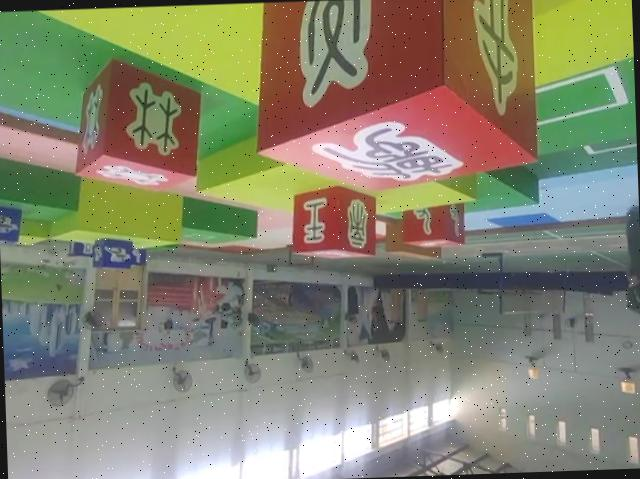R2 Fake: (248, 0, 541, 196), (291, 185, 378, 259)
R2 Real: (71, 54, 205, 196), (397, 198, 468, 252)
